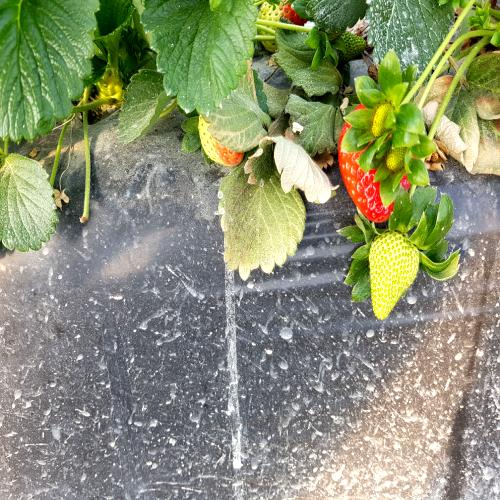ripe: (339, 91, 416, 234)
unripe: (370, 232, 422, 322)
